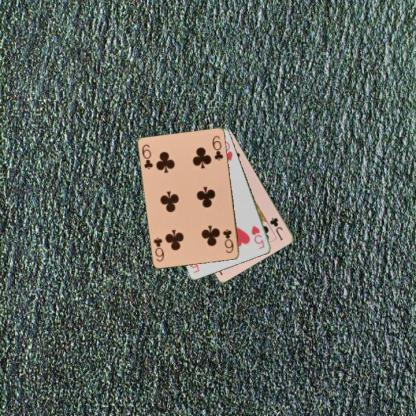5h: (249, 223, 266, 250)
6c: (140, 142, 154, 171), (220, 227, 235, 254)
Jc: (268, 215, 284, 241)
